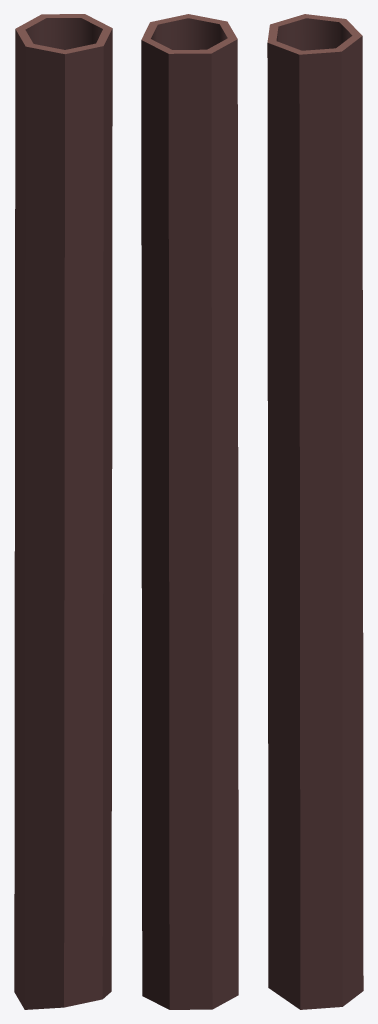
Rendered from Tree.fbx.
The picture shows the model from 3 angles, left to right: view 1: azimuth 30°, elevation 25°; view 2: azimuth 210°, elevation 25°; view 3: azimuth 270°, elevation 25°; orthographic projection.
Parts seen in each view (by area): view 1: Log_001; view 2: Log_001; view 3: Log_001.
Part boxes in pixels (<box>): Log_001: <box>14,14,112,1009</box>; Log_001: <box>141,14,238,1009</box>; Log_001: <box>267,14,363,1009</box>.
Size of the model in its own units: 100 by 1093 by 99.58.
